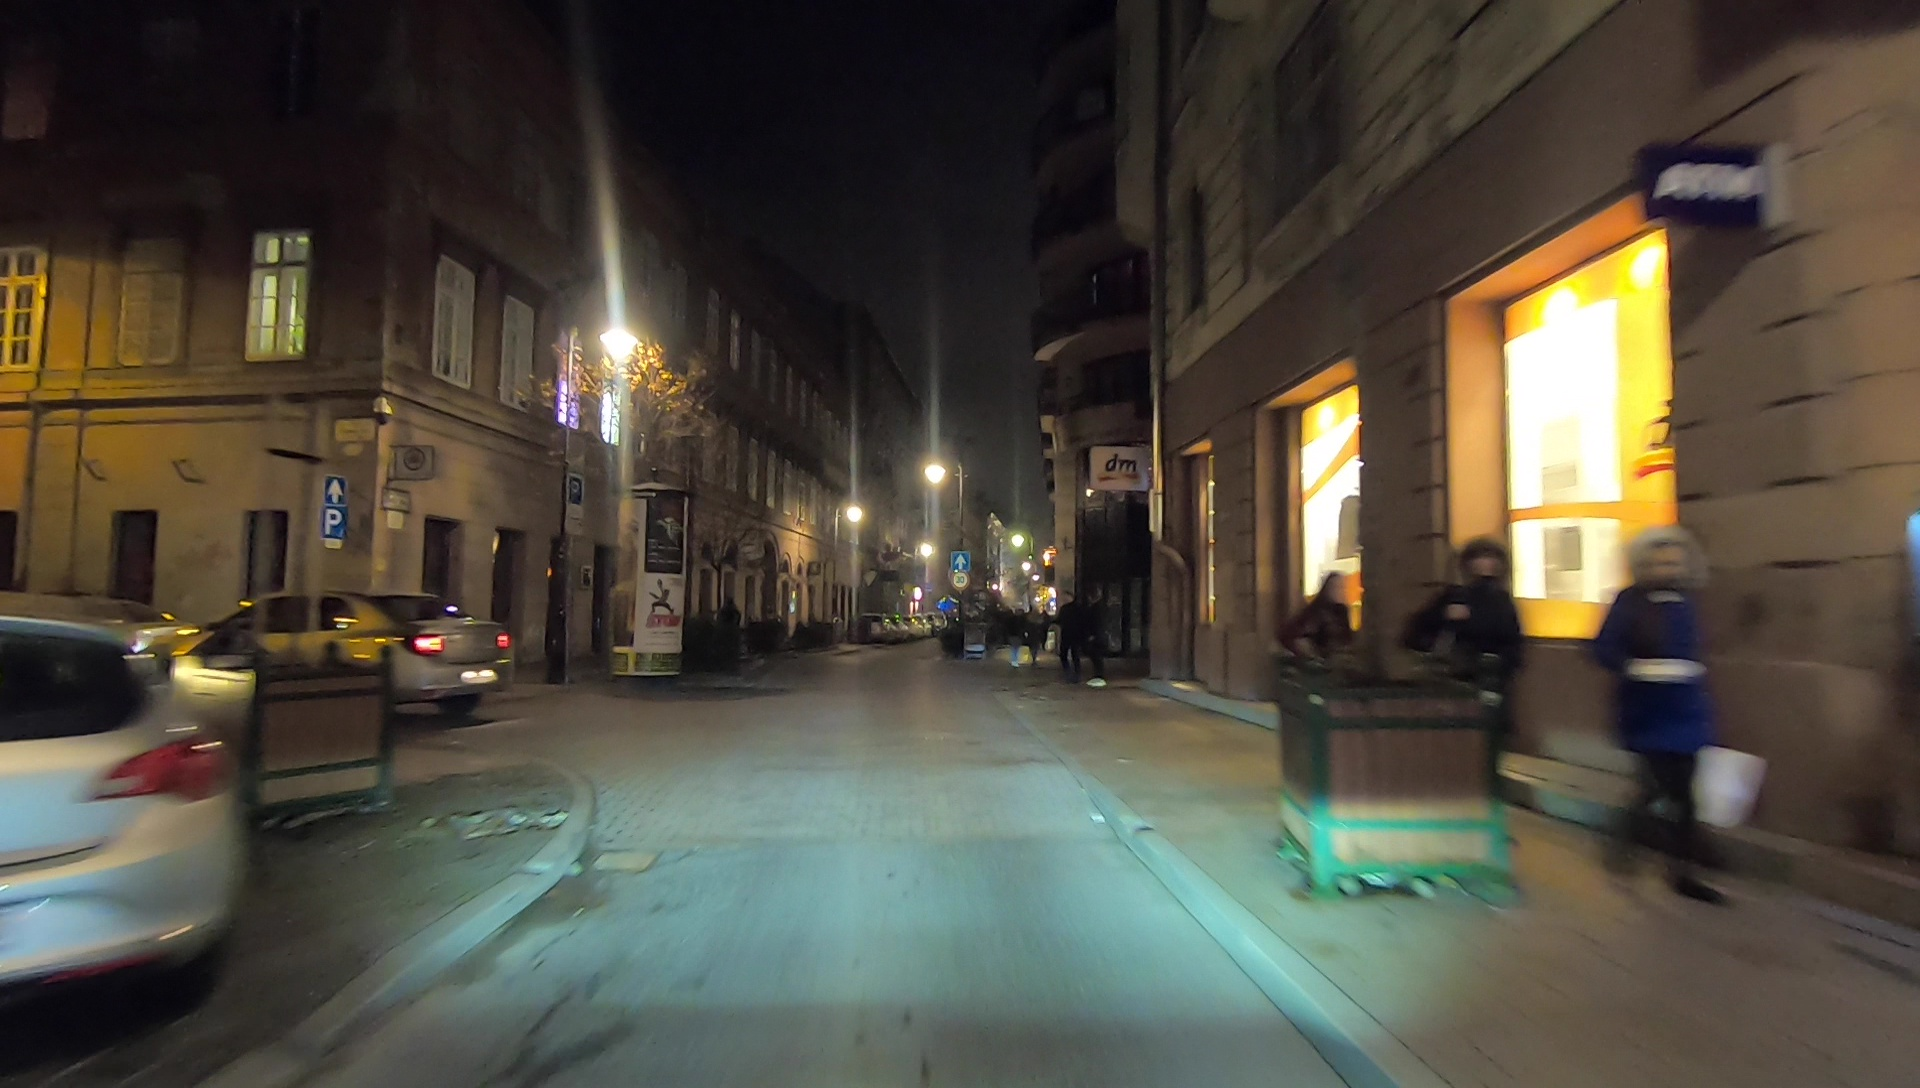person: (1595, 524, 1754, 902), (1417, 539, 1528, 819), (1295, 576, 1369, 782), (1056, 587, 1089, 679), (1087, 587, 1113, 688), (1009, 605, 1026, 669), (1024, 604, 1042, 664)
